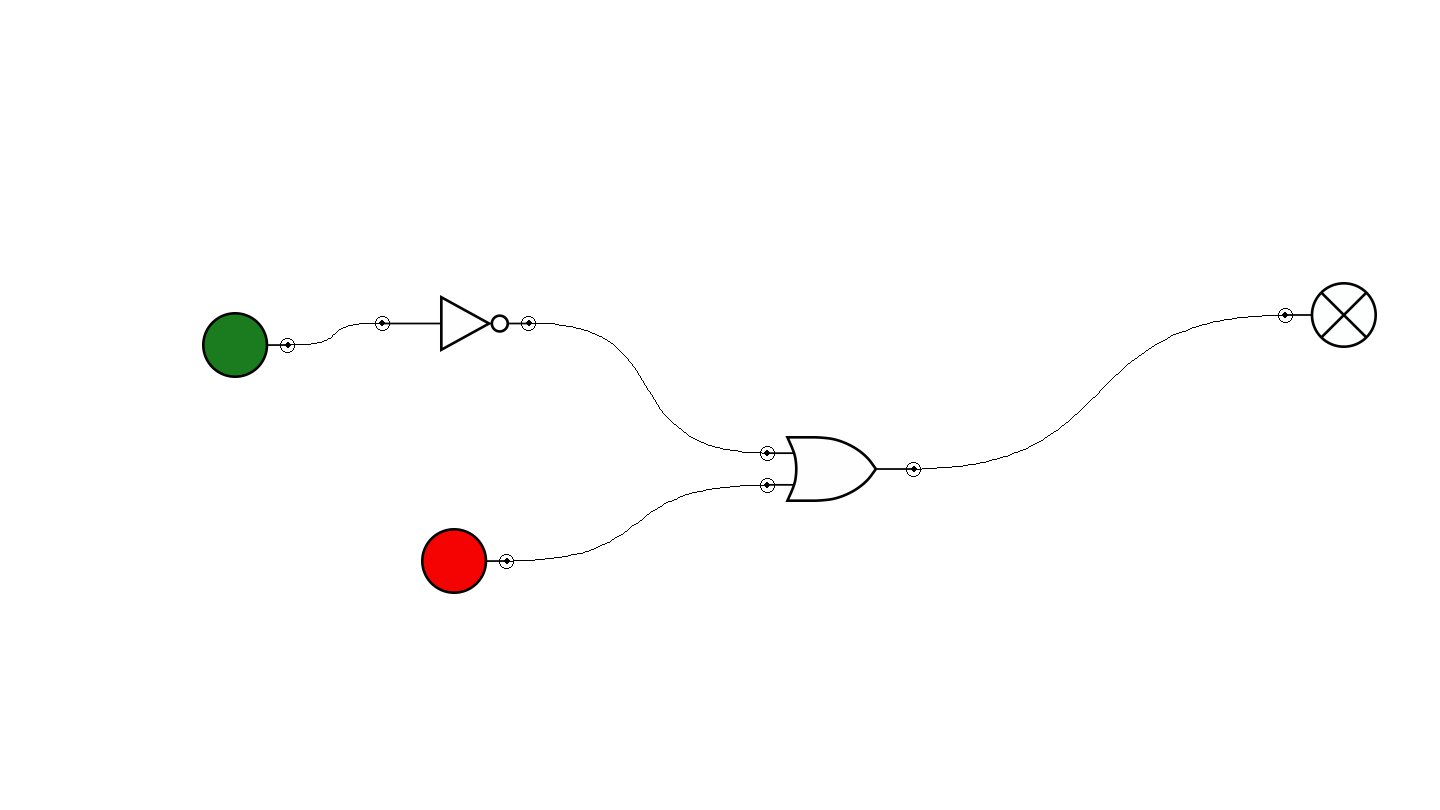bulb: (1278, 282, 1377, 348)
not: (375, 295, 536, 352)
or: (760, 436, 921, 502)
switch_False: (421, 528, 514, 594)
switch_True: (202, 312, 295, 378)
